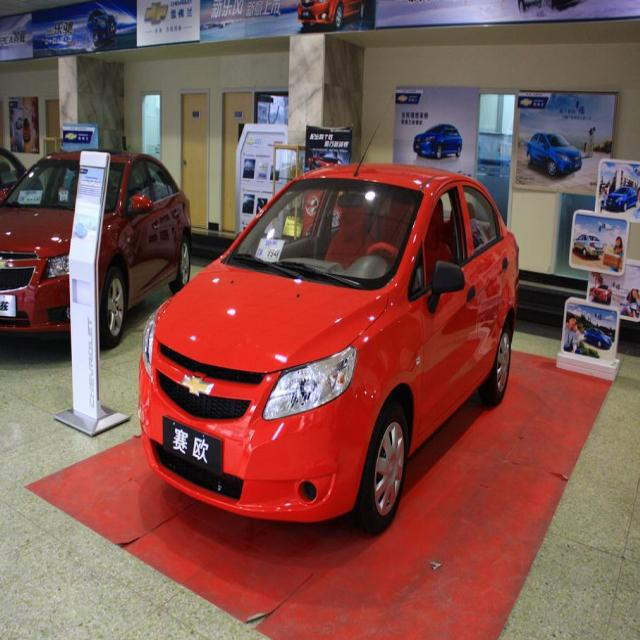front_bumper: (137, 355, 376, 524)
front_glass: (233, 174, 425, 283)
front_left_side_door: (416, 178, 483, 442)
front_left_side_light: (262, 342, 358, 423)
front_left_side_mirror: (427, 260, 466, 310)
front_right_side_light: (142, 298, 164, 382)
wheel: (344, 399, 410, 534), (478, 322, 511, 409)
